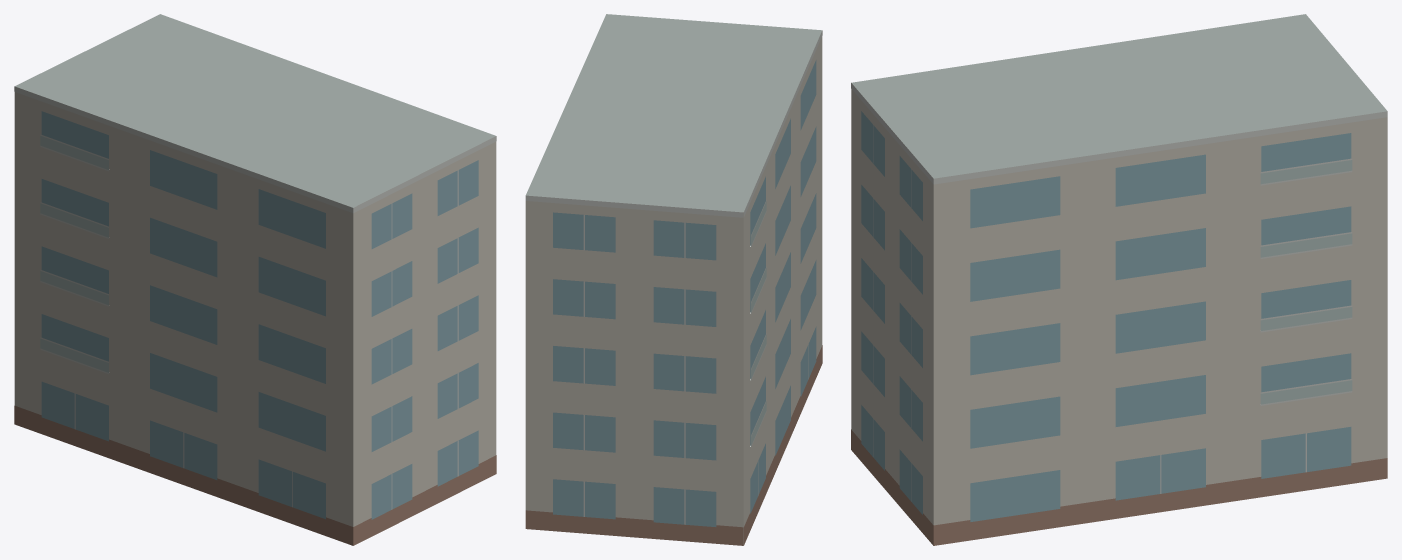
Rendered from survey-upis-32996064.glb.
3 renders of one model, left to right at view 1: azimuth 30°, elevation 25°; view 2: azimuth 150°, elevation 25°; view 3: azimuth 270°, elevation 25°, orthographic. The views are drawn at different scales.
Visible parts, largest first — view 1: survey-upis-32996064.tmp; view 2: survey-upis-32996064.tmp; view 3: survey-upis-32996064.tmp.
Boxes of the visible parts, x1=… form: survey-upis-32996064.tmp: x1=14, y1=14, x2=496, y2=545; survey-upis-32996064.tmp: x1=525, y1=14, x2=822, y2=545; survey-upis-32996064.tmp: x1=851, y1=14, x2=1387, y2=545.
Size of the model in its own units: 14.68 by 15.25 by 20.2.
